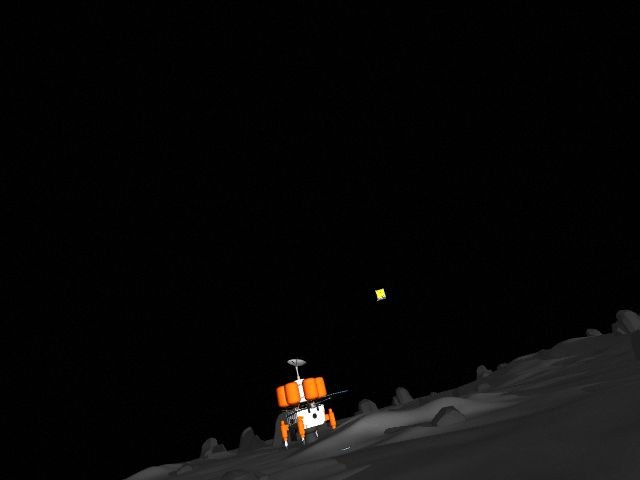homebase: (259, 357, 347, 452)
